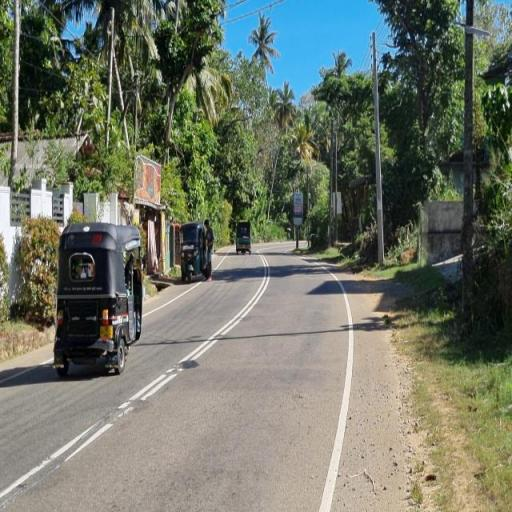double_white_line: (117, 257, 272, 419)
